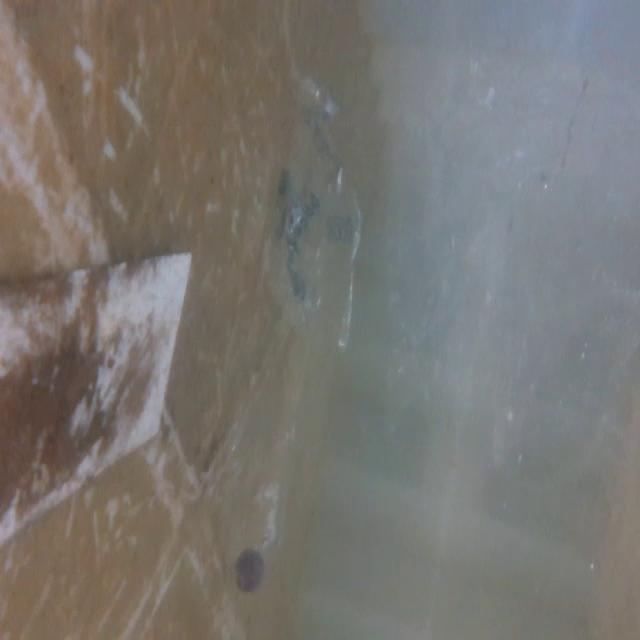metal: (0, 245, 197, 543)
plastic bags: (383, 29, 557, 512), (269, 58, 359, 352)
plastic bottle: (214, 364, 317, 610)
